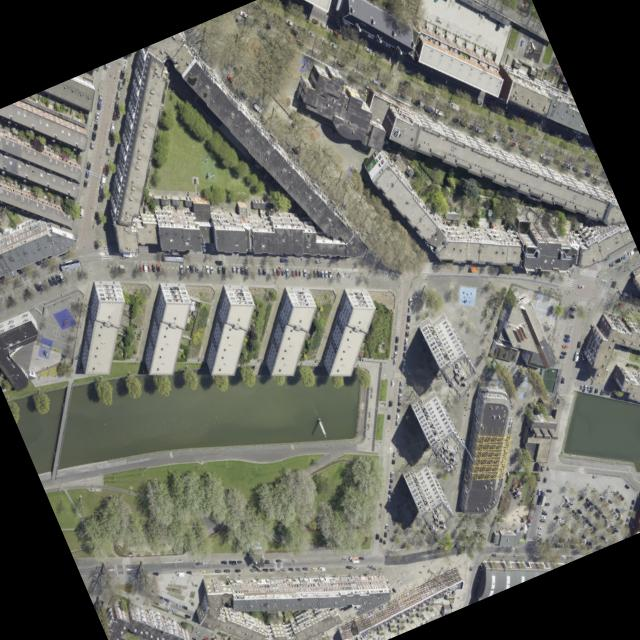large-vehicle: (59, 257, 81, 271), (162, 252, 184, 261)
small-vehicle: (538, 489, 547, 507), (449, 100, 459, 111), (371, 61, 380, 72), (253, 102, 262, 113), (122, 249, 134, 257), (291, 145, 300, 155), (435, 107, 444, 117), (411, 96, 421, 105), (50, 274, 58, 285), (260, 4, 269, 13), (239, 9, 248, 18), (363, 44, 372, 53), (369, 75, 378, 84), (286, 33, 295, 42), (340, 46, 349, 55), (37, 281, 45, 290), (33, 282, 41, 291), (100, 173, 106, 185), (226, 73, 234, 82), (7, 294, 15, 303), (284, 137, 292, 146), (320, 36, 329, 44), (342, 17, 350, 26), (483, 129, 491, 138), (414, 57, 422, 66), (424, 104, 433, 112), (299, 10, 307, 19), (289, 27, 298, 35), (349, 556, 359, 563), (342, 179, 349, 189), (573, 351, 580, 361), (119, 69, 125, 80), (94, 111, 100, 122), (375, 51, 383, 59), (263, 21, 271, 29), (253, 17, 261, 25), (337, 59, 345, 67), (329, 40, 337, 48), (320, 21, 328, 29), (366, 31, 374, 39), (348, 51, 356, 59), (285, 18, 293, 26), (307, 29, 315, 37), (379, 223, 387, 231), (383, 40, 391, 48), (424, 76, 432, 84), (421, 88, 429, 96), (479, 114, 487, 122), (298, 24, 306, 32), (296, 38, 304, 46), (9, 269, 16, 278), (24, 287, 31, 296), (342, 201, 349, 210), (240, 74, 247, 83), (241, 89, 248, 98), (321, 178, 328, 187), (328, 186, 335, 195), (365, 226, 372, 235), (58, 272, 65, 281), (54, 274, 61, 283), (47, 277, 54, 286), (115, 90, 121, 100), (117, 80, 123, 90), (469, 266, 479, 272), (175, 570, 185, 576), (495, 21, 501, 31), (15, 266, 22, 274), (233, 66, 240, 74), (383, 227, 390, 235), (354, 194, 361, 202), (491, 132, 499, 139), (498, 122, 505, 130), (391, 44, 398, 52), (290, 6, 298, 13), (108, 129, 113, 140), (91, 130, 96, 141), (112, 110, 117, 121), (79, 205, 84, 216), (99, 184, 104, 194), (86, 160, 91, 170), (114, 100, 119, 110), (94, 210, 99, 220), (609, 260, 616, 267), (564, 524, 571, 531), (627, 249, 634, 256), (312, 17, 319, 24), (380, 81, 387, 88), (483, 102, 490, 109), (460, 119, 467, 126), (577, 495, 584, 502), (594, 162, 601, 169), (578, 155, 585, 162), (375, 36, 382, 43), (593, 173, 600, 180), (406, 52, 413, 59), (429, 92, 436, 99), (333, 29, 340, 36), (321, 51, 328, 58), (518, 143, 525, 150), (517, 130, 524, 137), (507, 125, 514, 132), (501, 136, 508, 143), (506, 132, 513, 139), (501, 109, 508, 116), (489, 97, 496, 104), (498, 94, 505, 101), (570, 527, 576, 535), (455, 75, 461, 83), (451, 116, 459, 122), (38, 256, 44, 264), (582, 144, 590, 150), (404, 79, 410, 87), (93, 122, 98, 131), (151, 263, 156, 272), (102, 165, 107, 174), (105, 146, 110, 155), (179, 264, 184, 273), (110, 122, 115, 131), (143, 263, 148, 272), (221, 265, 226, 274), (214, 260, 223, 265), (327, 249, 332, 258), (170, 243, 175, 252), (185, 244, 190, 253), (156, 594, 163, 600), (578, 283, 585, 289), (615, 257, 621, 264), (562, 501, 568, 508), (569, 508, 575, 515), (621, 253, 627, 260), (619, 495, 625, 502), (605, 526, 612, 532), (597, 493, 603, 500), (475, 125, 481, 132), (467, 123, 474, 129), (589, 146, 595, 153), (400, 91, 406, 98), (595, 515, 602, 521), (476, 98, 482, 105), (577, 517, 583, 524), (606, 505, 612, 512), (554, 157, 560, 164), (565, 136, 572, 142), (184, 613, 191, 619), (34, 258, 40, 265), (566, 163, 573, 169), (553, 145, 560, 151), (540, 152, 546, 159), (509, 140, 516, 146), (575, 133, 582, 139), (487, 118, 494, 124), (404, 66, 410, 73), (424, 61, 430, 68), (342, 34, 348, 41), (556, 133, 563, 139), (525, 133, 531, 140), (0, 273, 5, 281), (318, 566, 326, 571), (262, 559, 270, 564), (575, 514, 580, 522), (582, 384, 587, 392), (83, 179, 88, 187), (97, 101, 101, 110), (97, 601, 103, 607), (96, 606, 102, 612), (98, 93, 102, 102), (90, 141, 94, 150), (156, 263, 160, 272), (324, 269, 328, 278), (559, 518, 565, 524), (556, 517, 562, 523), (553, 514, 559, 520), (537, 536, 543, 542), (566, 505, 572, 511), (612, 512, 618, 518), (609, 529, 615, 535), (613, 490, 619, 496), (588, 506, 594, 512), (591, 487, 597, 493), (599, 496, 605, 502), (538, 540, 544, 546), (167, 244, 171, 253), (586, 504, 592, 510), (593, 511, 599, 517), (586, 525, 592, 531), (582, 500, 588, 506), (584, 503, 590, 509), (603, 501, 609, 507), (585, 171, 591, 177), (560, 148, 566, 154), (549, 130, 555, 136), (165, 606, 172, 611), (194, 265, 199, 272), (280, 257, 287, 262), (618, 518, 623, 525), (374, 214, 379, 221), (98, 194, 102, 202), (85, 170, 89, 178), (189, 265, 193, 273), (205, 264, 209, 272), (291, 268, 295, 276), (272, 267, 276, 275), (258, 267, 262, 275), (244, 266, 248, 274), (240, 266, 244, 274), (232, 265, 236, 273), (217, 266, 221, 274), (317, 269, 321, 277), (313, 269, 317, 277), (303, 269, 307, 277), (556, 397, 560, 405), (589, 385, 593, 393), (577, 340, 581, 348), (171, 608, 177, 613), (163, 597, 169, 602), (153, 600, 159, 605), (98, 599, 104, 604), (454, 543, 460, 548), (635, 295, 640, 301), (615, 516, 621, 521), (614, 527, 619, 533), (610, 523, 615, 529), (577, 508, 582, 514), (598, 508, 603, 514), (594, 504, 599, 510), (570, 306, 576, 311), (608, 498, 613, 504), (611, 510, 616, 516), (591, 529, 596, 535), (559, 522, 565, 527), (580, 519, 585, 525), (583, 522, 588, 528), (604, 523, 609, 529), (593, 525, 598, 531), (604, 538, 609, 544), (569, 500, 574, 506), (615, 507, 620, 513), (629, 293, 635, 298), (573, 166, 579, 171), (561, 160, 566, 166), (564, 333, 570, 338), (631, 305, 637, 310), (625, 483, 630, 489), (625, 516, 630, 522), (152, 571, 159, 575), (148, 264, 152, 271), (139, 264, 143, 271), (252, 564, 259, 568), (367, 564, 374, 568), (345, 565, 352, 569), (375, 533, 379, 540), (285, 268, 289, 275), (281, 268, 285, 275), (276, 268, 280, 275), (262, 268, 266, 275), (236, 266, 240, 273), (202, 244, 206, 251), (402, 351, 406, 358), (404, 337, 408, 344), (406, 323, 410, 330), (394, 344, 398, 351), (328, 270, 332, 277), (315, 259, 322, 263), (387, 413, 391, 420), (295, 269, 299, 276), (537, 488, 541, 495), (543, 476, 547, 483), (578, 538, 582, 545), (586, 385, 590, 392), (600, 388, 604, 395), (229, 560, 236, 564), (220, 560, 227, 564), (176, 602, 181, 607), (623, 291, 628, 296), (618, 289, 623, 294), (609, 508, 614, 513), (573, 511, 578, 516), (574, 514, 579, 519), (601, 535, 606, 540), (585, 518, 590, 523), (581, 514, 586, 519), (611, 488, 616, 493), (561, 350, 566, 355), (564, 337, 569, 342), (182, 604, 187, 609), (203, 635, 208, 640), (190, 636, 196, 640), (311, 566, 317, 570), (576, 544, 580, 550), (574, 543, 578, 549), (563, 543, 567, 549), (562, 344, 568, 348), (342, 556, 348, 560), (291, 558, 297, 562), (269, 567, 275, 571), (392, 587, 396, 593), (352, 565, 358, 569), (280, 567, 286, 571), (469, 565, 473, 571), (398, 393, 401, 401), (402, 358, 405, 366), (403, 345, 407, 351), (437, 546, 443, 550), (395, 335, 398, 343), (201, 561, 207, 565), (395, 420, 399, 426), (397, 400, 401, 406), (560, 554, 566, 558), (546, 465, 550, 471), (560, 543, 564, 549), (580, 544, 584, 550), (567, 537, 571, 543), (568, 314, 574, 318), (409, 297, 412, 305), (407, 314, 410, 322), (582, 533, 586, 539), (590, 545, 594, 551), (594, 539, 598, 545), (588, 540, 592, 546), (594, 387, 598, 393), (631, 499, 635, 505), (614, 392, 618, 398), (235, 568, 241, 572), (195, 561, 201, 565), (186, 265, 189, 272), (275, 559, 282, 562), (210, 266, 213, 273), (299, 269, 302, 276), (405, 330, 408, 337), (389, 400, 392, 407), (391, 379, 394, 386), (394, 351, 397, 358), (393, 358, 396, 365), (321, 270, 324, 277), (390, 471, 393, 478), (396, 413, 399, 420), (397, 406, 400, 413), (408, 306, 411, 313), (571, 543, 574, 550), (587, 544, 590, 551), (561, 376, 564, 383), (288, 567, 293, 571), (560, 354, 565, 358), (462, 543, 467, 547), (399, 381, 403, 386), (583, 539, 587, 544), (555, 554, 560, 558), (540, 518, 545, 522), (541, 514, 546, 518), (542, 511, 547, 515), (542, 508, 547, 512), (544, 502, 549, 506), (546, 488, 551, 492), (533, 554, 538, 558), (624, 523, 628, 528), (586, 497, 590, 502), (593, 474, 598, 478), (605, 518, 609, 523), (602, 514, 606, 519), (589, 522, 593, 527), (619, 512, 623, 517), (554, 543, 558, 548), (201, 569, 206, 573), (302, 567, 308, 570), (262, 568, 268, 571), (256, 568, 262, 571), (387, 507, 390, 513), (379, 502, 382, 508), (388, 495, 391, 501), (388, 489, 391, 495), (378, 512, 381, 518), (389, 483, 392, 489), (399, 387, 402, 393), (401, 366, 404, 372), (385, 523, 388, 529), (384, 531, 387, 537), (537, 532, 543, 535), (538, 526, 544, 529), (528, 517, 531, 523), (546, 537, 549, 543), (537, 475, 540, 481), (250, 568, 256, 571), (569, 543, 572, 549), (580, 384, 583, 390), (637, 397, 640, 403), (630, 504, 633, 510), (186, 570, 192, 573), (215, 569, 221, 572), (224, 569, 230, 572), (619, 302, 623, 306), (589, 501, 593, 505), (295, 567, 300, 570), (383, 539, 386, 544), (359, 556, 364, 559), (491, 553, 496, 556), (390, 478, 393, 483), (392, 459, 395, 464), (527, 523, 530, 528), (514, 554, 519, 557), (628, 511, 631, 516), (558, 543, 561, 548), (596, 535, 601, 538), (237, 560, 242, 563), (563, 538, 566, 542), (380, 537, 382, 542), (202, 638, 207, 640), (638, 307, 640, 311)
